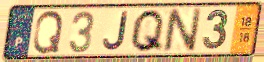3: (201, 8, 230, 53), (68, 10, 96, 54)
J: (101, 10, 130, 52)
N: (161, 6, 204, 55)
Q: (128, 8, 167, 54), (31, 9, 65, 56)
